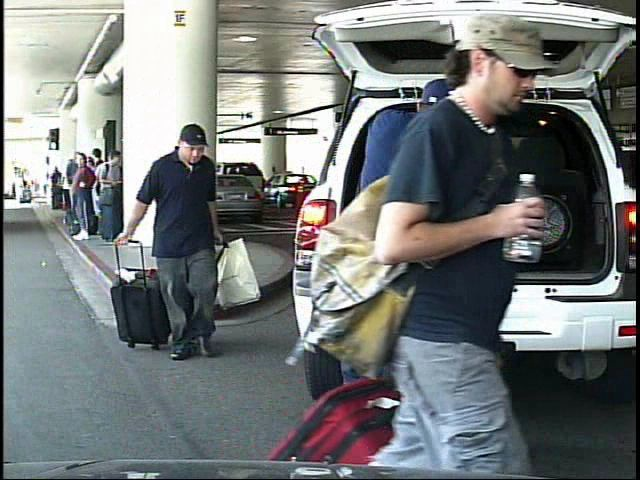person: (340, 12, 536, 476), (330, 72, 512, 476), (111, 125, 240, 368), (13, 174, 24, 205)
